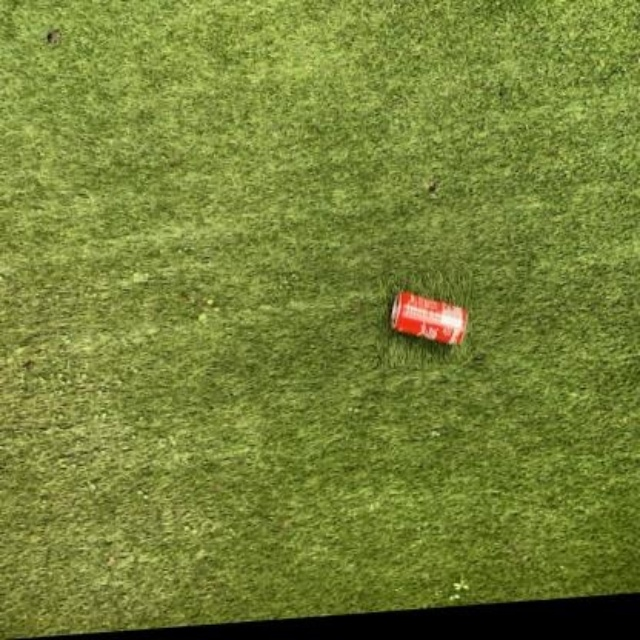trash: (391, 291, 466, 343)
